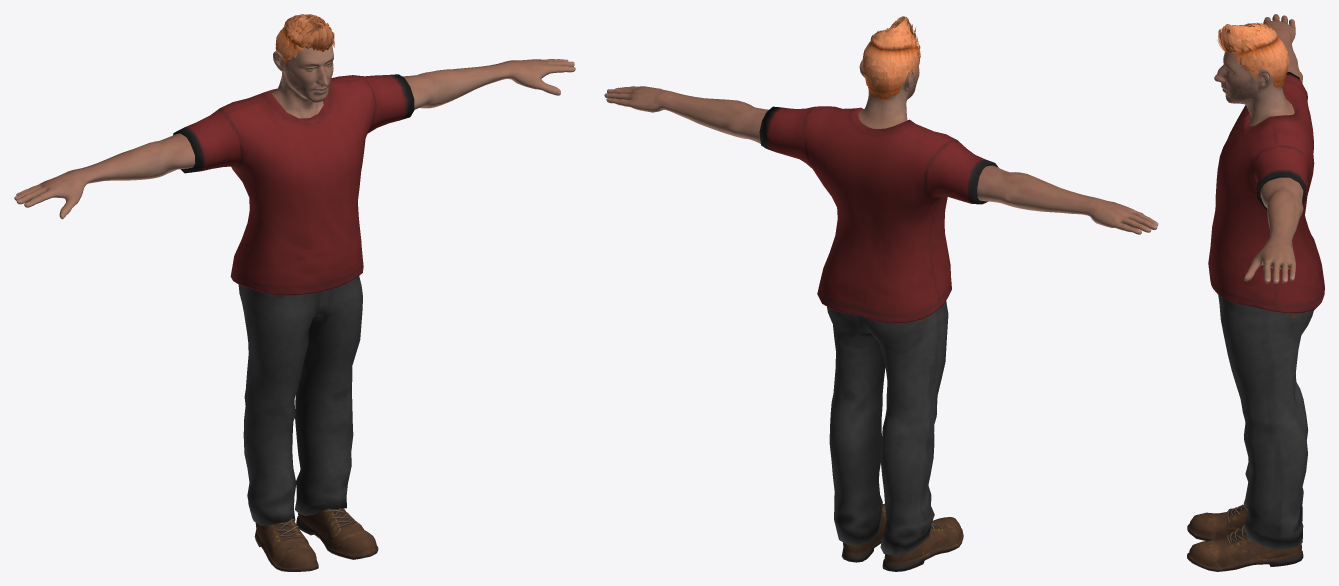
The model's file is Brett.obj.
3 renders of one model, left to right at view 1: azimuth 30°, elevation 25°; view 2: azimuth 150°, elevation 25°; view 3: azimuth 270°, elevation 25°, orthographic.
Parts seen in each view (by area): view 1: Tops, Bottoms, Body, Shoes, Hair; view 2: Tops, Bottoms, Body, Hair, Shoes; view 3: Tops, Bottoms, Body, Shoes, Hair.
Boxes of the visible parts, <box> form: Tops: <box>173,74,414,295</box>; Bottoms: <box>238,276,362,525</box>; Body: <box>14,18,575,219</box>; Shoes: <box>254,503,378,571</box>; Hair: <box>275,14,334,65</box>; Tops: <box>759,106,998,323</box>; Bottoms: <box>827,300,948,555</box>; Body: <box>604,42,1158,234</box>; Hair: <box>862,16,920,99</box>; Shoes: <box>841,503,963,571</box>; Tops: <box>1208,72,1324,312</box>; Bottoms: <box>1218,294,1313,549</box>; Body: <box>1214,14,1303,283</box>; Shoes: <box>1187,504,1303,571</box>; Hair: <box>1217,22,1289,87</box>.
Bounding box in the file's own units: 202 × 183 × 43.58.
